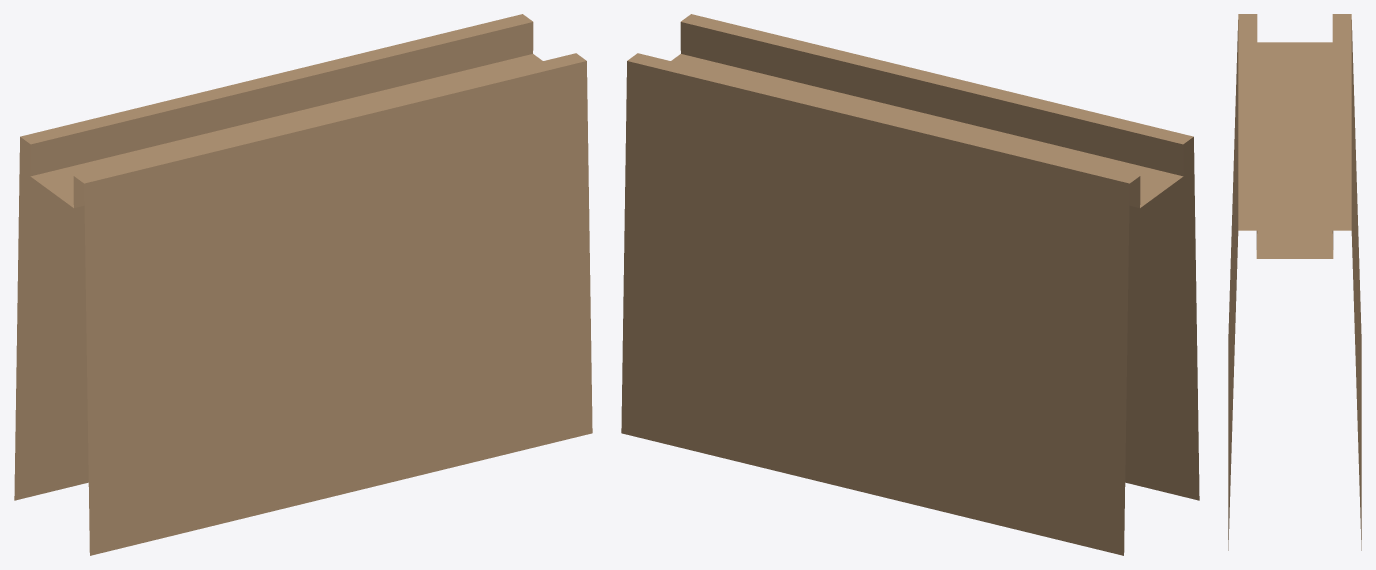
File: Wall_Straight.fbx
3 views of the same model, side by side, from view 1: azimuth 30°, elevation 25°; view 2: azimuth 150°, elevation 25°; view 3: azimuth 270°, elevation 25° (orthographic). The views are drawn at different scales.
Parts seen in each view (by area): view 1: Wall_Straight; view 2: Wall_Straight; view 3: Wall_Straight.
Boxes of the visible parts, <box> form: Wall_Straight: <box>14,14,592,555</box>; Wall_Straight: <box>621,14,1199,555</box>; Wall_Straight: <box>1228,14,1361,550</box>.
Bounding box in the file's own units: 750 × 525 × 195.
1 material, 1 textured.
